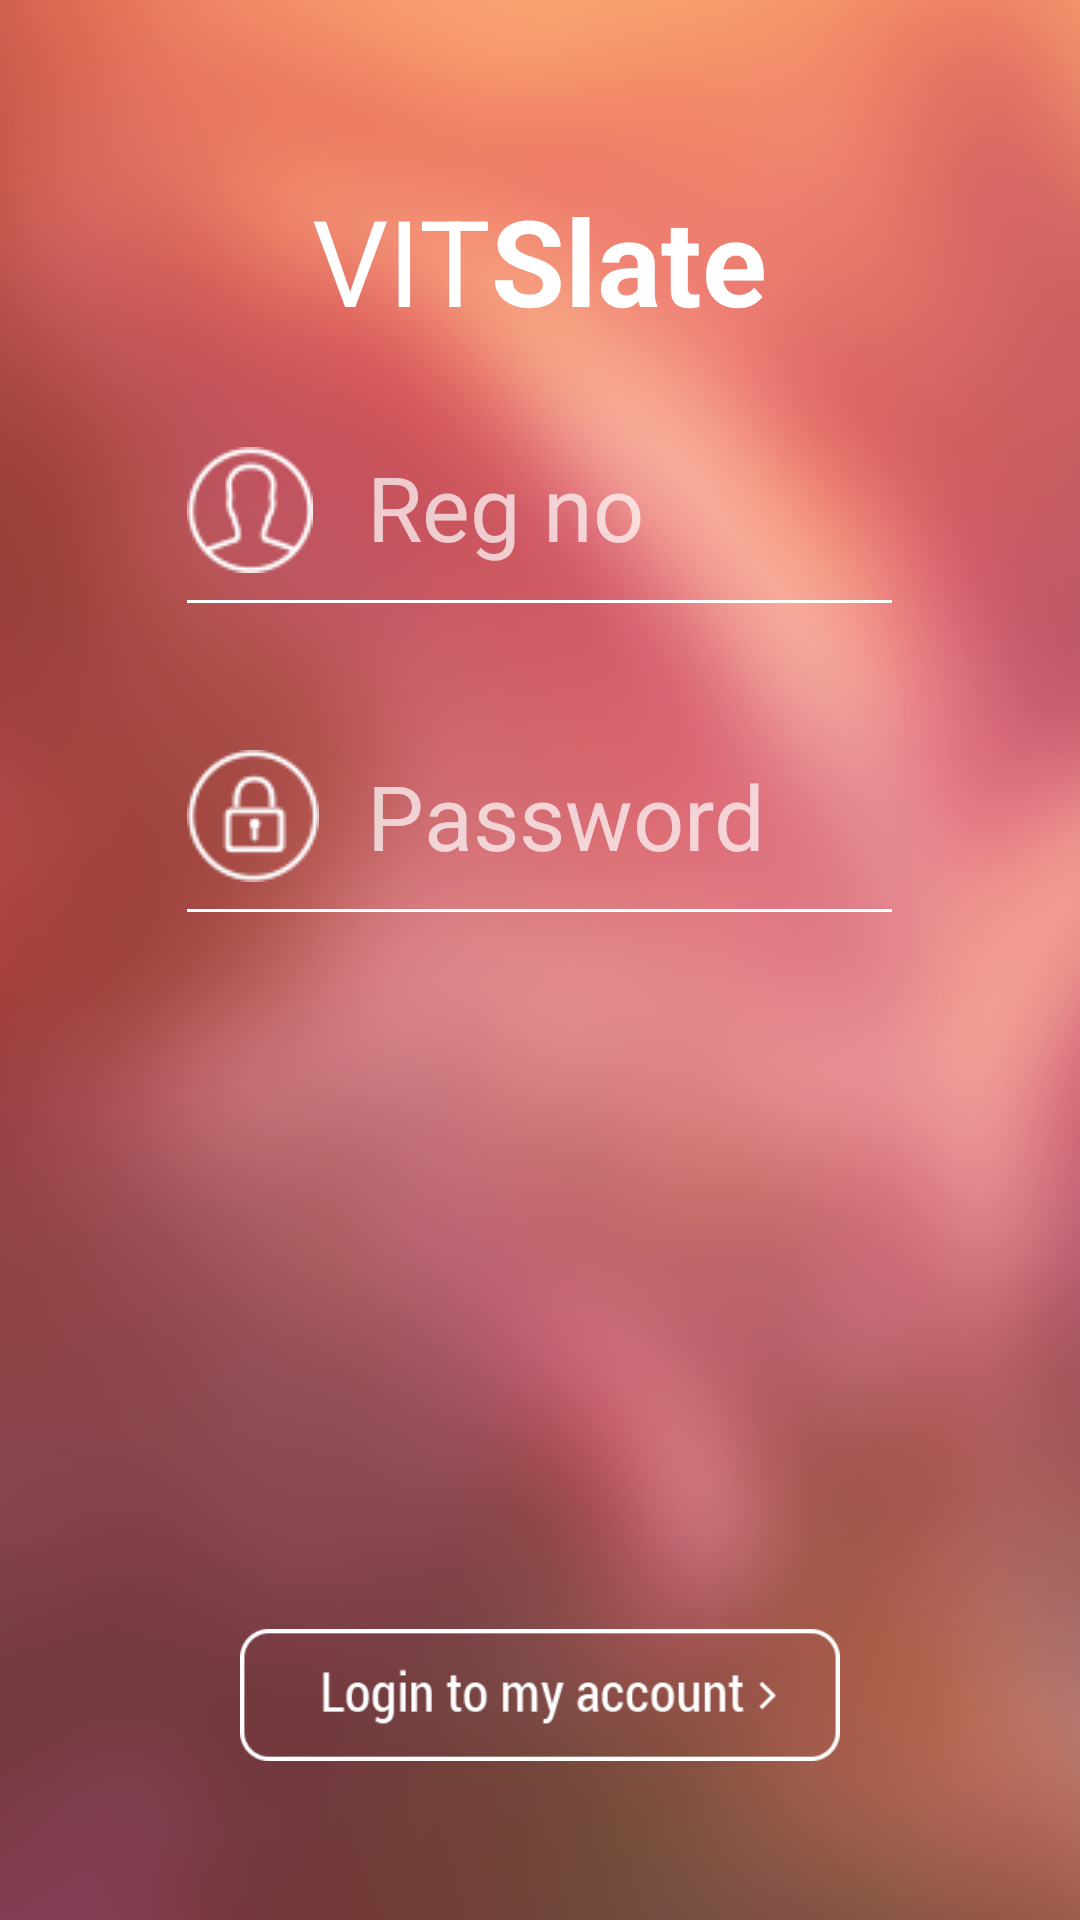

Icons on this 1080w x 1920h Android screen, each with its box as Rect(x1, y1, x2, y2):
uname: Rect(187, 447, 313, 573)
